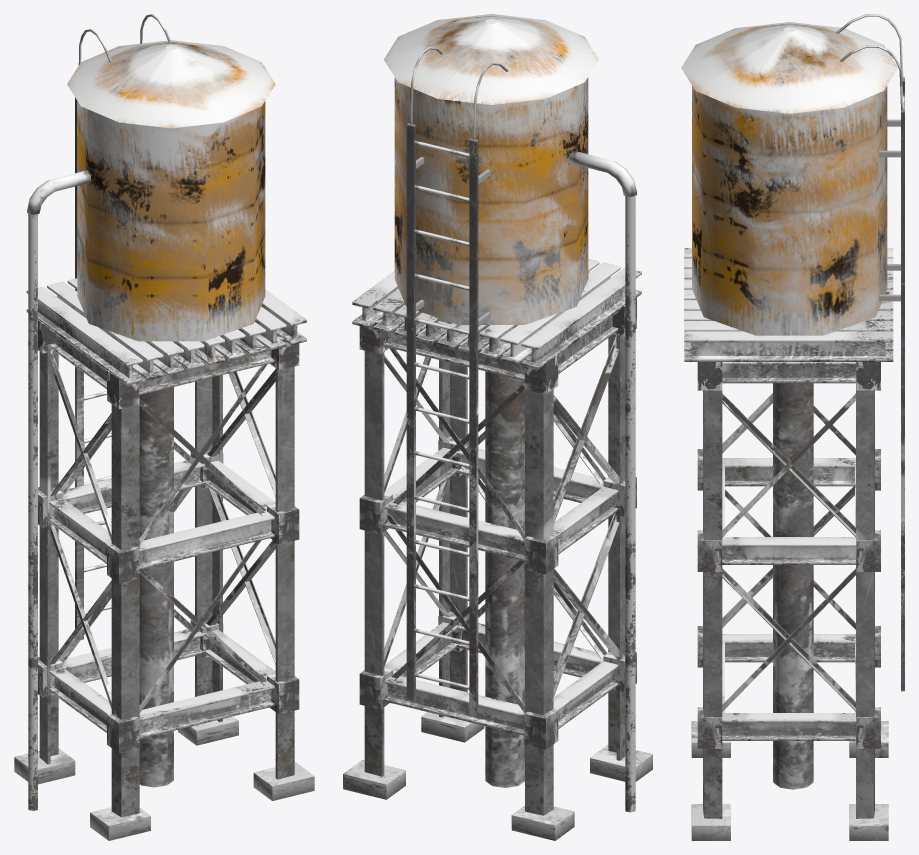
File: observation_tower.glb
3 views of the same model, side by side, from view 1: azimuth 30°, elevation 25°; view 2: azimuth 150°, elevation 25°; view 3: azimuth 270°, elevation 25° (orthographic). The views are drawn at different scales.
Parts seen in each view (by area): view 1: water; view 2: water; view 3: water.
Boxes of the visible parts, box(x1,y1,x2,y2) form: water: box(14, 14, 314, 840); water: box(343, 14, 652, 840); water: box(681, 14, 904, 840).
Bounding box in the file's own units: 0.6829 × 2 × 0.5322.
1 material, 1 textured.
